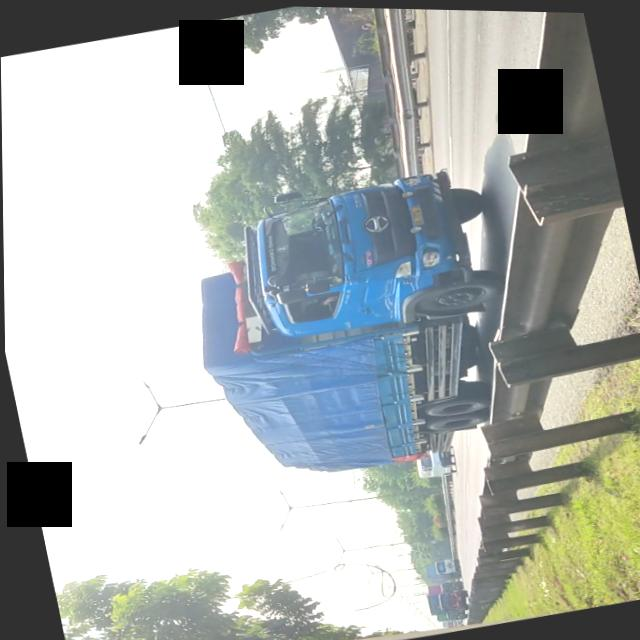Golongan III: (216, 150, 534, 485)
